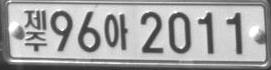0: (167, 11, 191, 53)
1: (224, 12, 248, 55), (196, 12, 220, 54)
2: (139, 10, 164, 53)
6: (76, 10, 101, 52)
9: (49, 10, 74, 51)
아: (103, 13, 127, 51)
제주_V: (23, 10, 49, 52)
